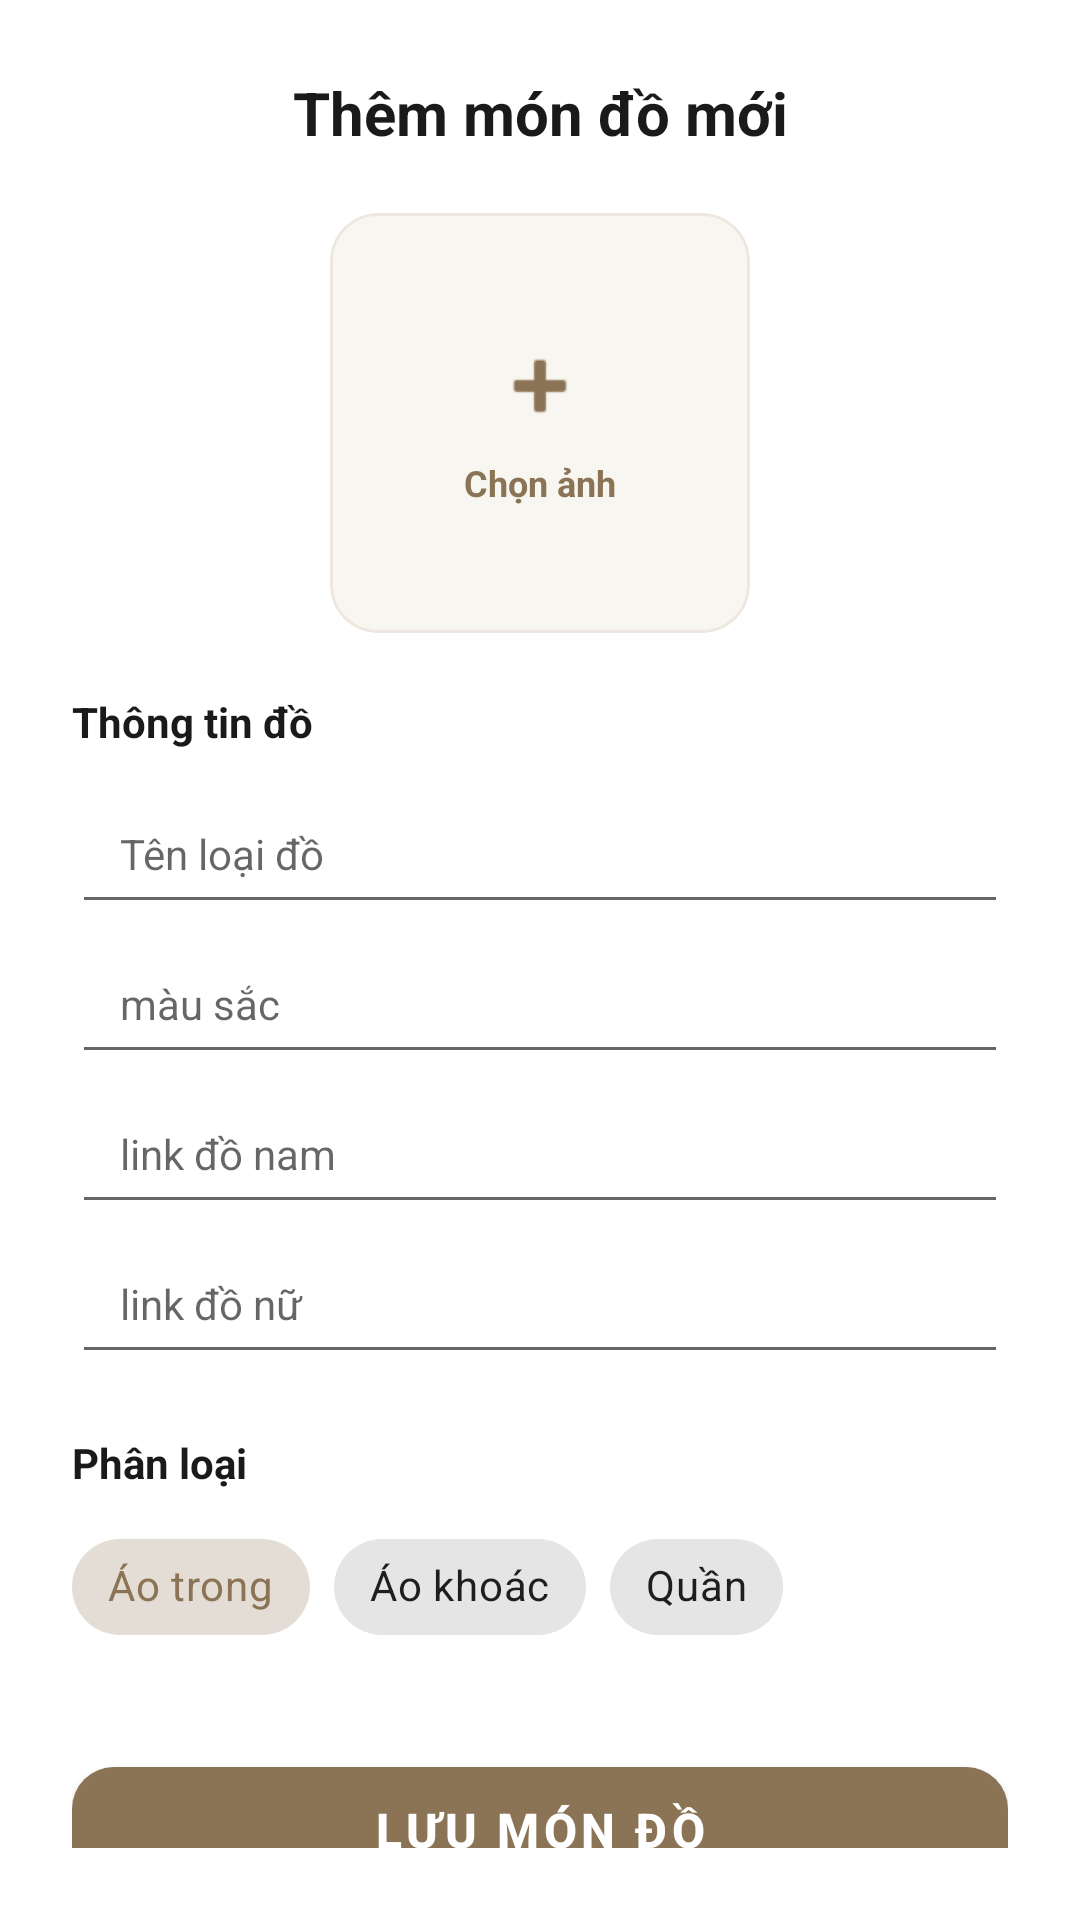

Screen size 1080×1920. Icon name, then its box in pixels as bbox(x1, y1, x2, y2):
add: bbox(513, 359, 567, 413)
